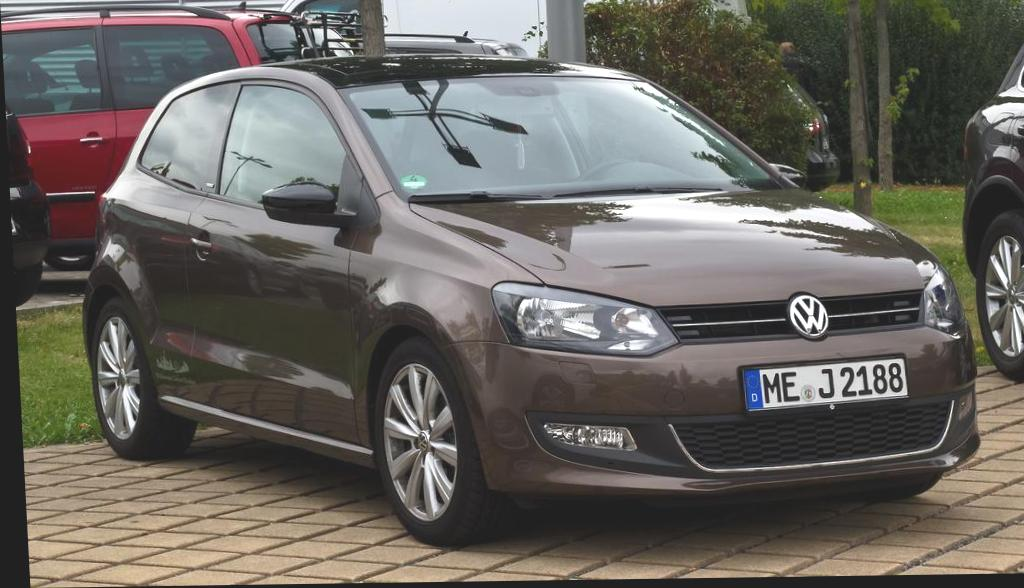License_Plate: (723, 336, 926, 430)
